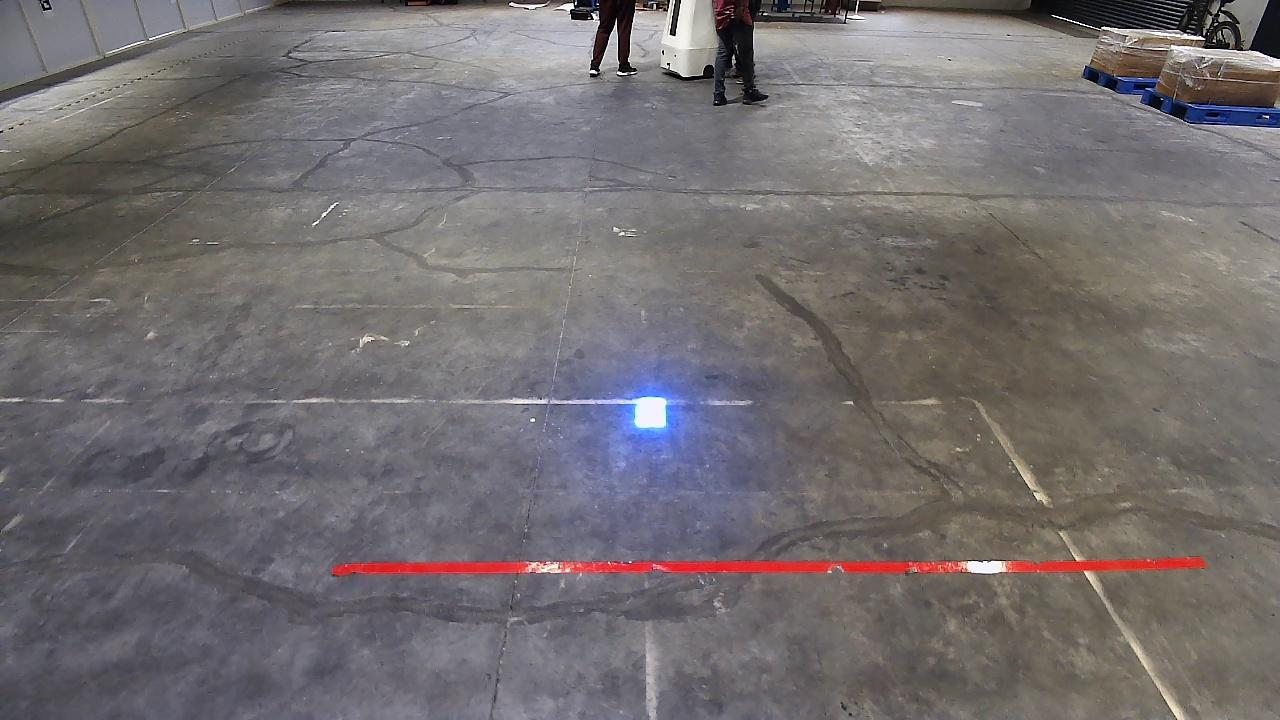red_line: (325, 555, 1212, 579)
